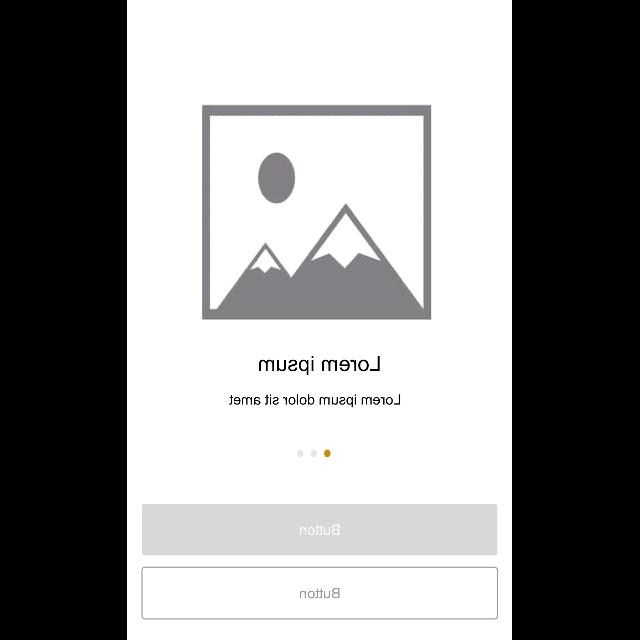image: (202, 104, 432, 320)
pageindicator: (298, 449, 332, 457)
text: (230, 394, 402, 408), (260, 355, 380, 375)
textbutton: (142, 566, 498, 620), (142, 504, 498, 556)
